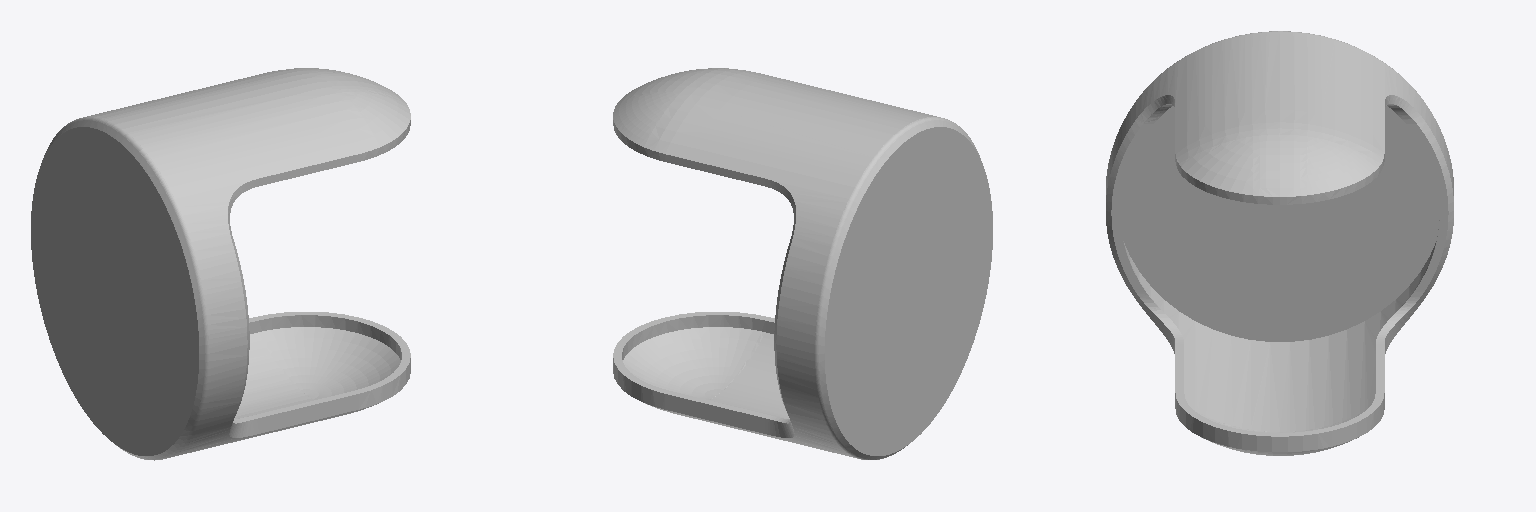
The model's file is right_wrist_roll_link_visuals.obj.
3 views of the same model, side by side, from view 1: azimuth 30°, elevation 25°; view 2: azimuth 150°, elevation 25°; view 3: azimuth 270°, elevation 25° (orthographic).
Bounding box in the file's own units: 0.056 × 0.0605 × 0.06.